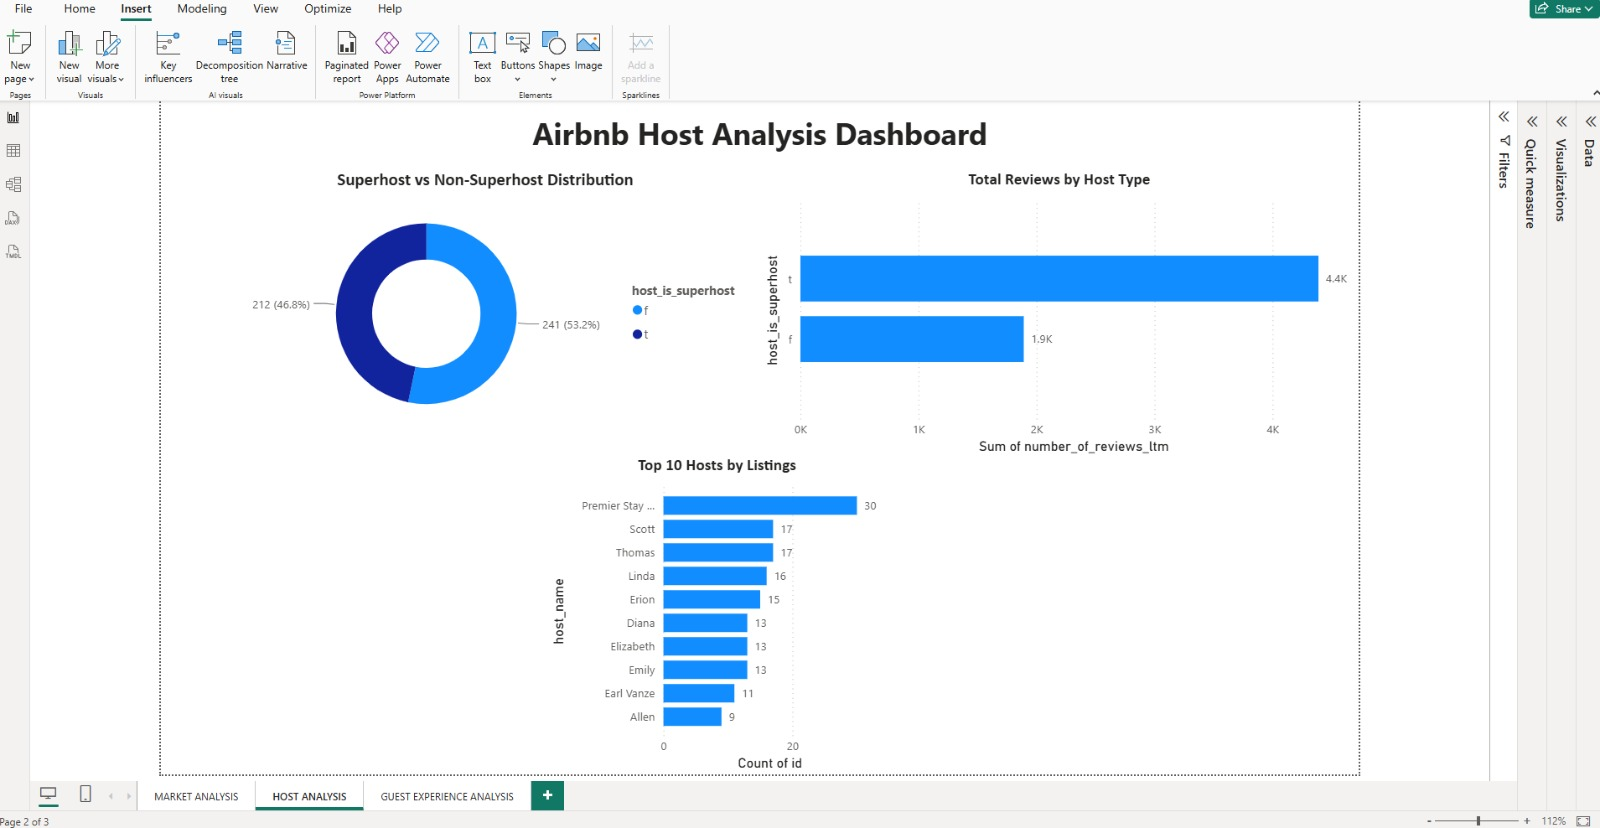

What the dashboard file says about the page in this screenshot:
{"tool":"powerbi","page":{"name":"HOST ANALYSIS","canvas":[1280,720],"ordinal":1},"visuals":[{"type":"textbox","box":[0,7.2,1279.7,65.4],"z":0},{"type":"donutChart","title":"Superhost vs Non-Superhost Distribution","fields":{"Y":["CountNonNull(airbnb_project airbnb_listings.host_profile_id)"],"Category":["airbnb_project airbnb_listings.host_is_superhost"]},"box":[59.1,72.5,574.9,287.5],"z":1},{"type":"clusteredBarChart","title":"Top 10 Hosts by Listings","fields":{"Y":["CountNonNull(airbnb_project airbnb_listings.id)"],"Category":["airbnb_project airbnb_listings.host_name"]},"box":[411.7,377.7,364.7,342.7],"z":2},{"type":"clusteredBarChart","title":"Total Reviews by Host Type","fields":{"Category":["airbnb_project airbnb_listings.host_is_superhost"],"Y":["Sum(airbnb_project airbnb_listings.number_of_reviews_ltm)"]},"box":[640.5,72.9,639.5,309.8],"z":3}]}

Visuals, with their boxes on the page's 1280x720 design canvas (x1, y1, x2, y2). These are canvas units, not pixel positions in the 1600x828 screenshot, which may show the page scaled, cropped or inside an application window:
textbox: (0, 7, 1280, 73)
"Superhost vs Non-Superhost Distribution" donutChart: (59, 72, 634, 360)
"Top 10 Hosts by Listings" clusteredBarChart: (412, 378, 776, 720)
"Total Reviews by Host Type" clusteredBarChart: (640, 73, 1280, 383)
